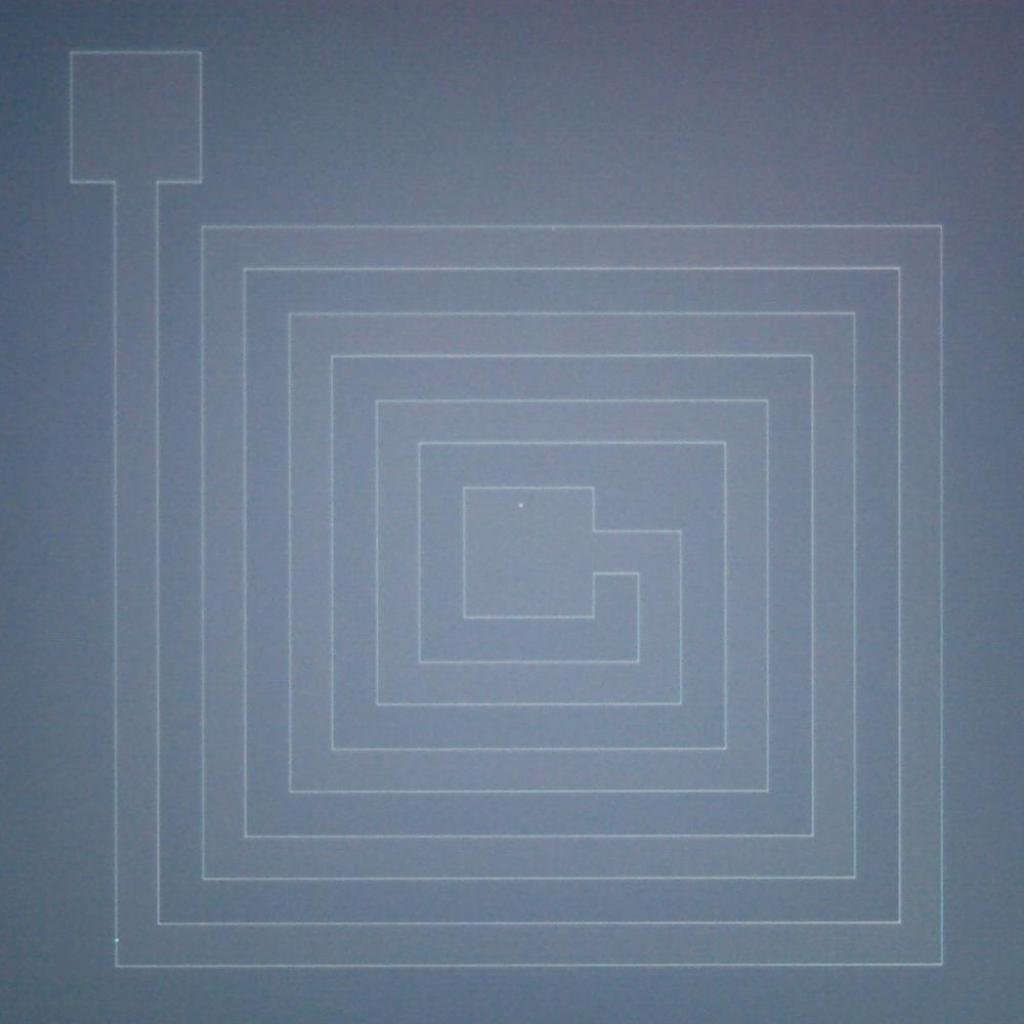dot: (519, 504, 523, 506)
